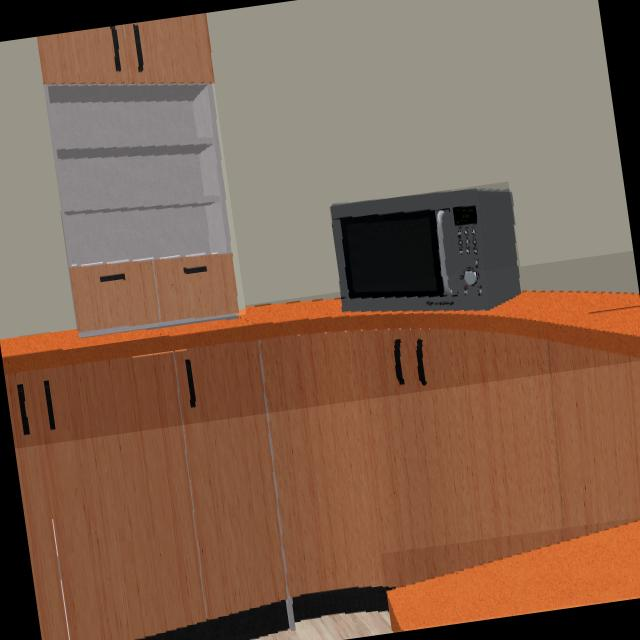cabinet: (6, 328, 640, 640), (42, 14, 240, 328)
countertop: (0, 293, 640, 376), (389, 522, 640, 631)
microwave: (332, 192, 521, 314)
